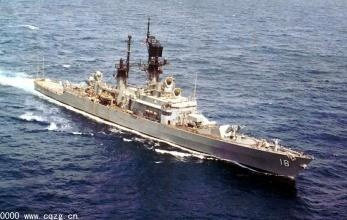warship: (32, 34, 315, 174)
